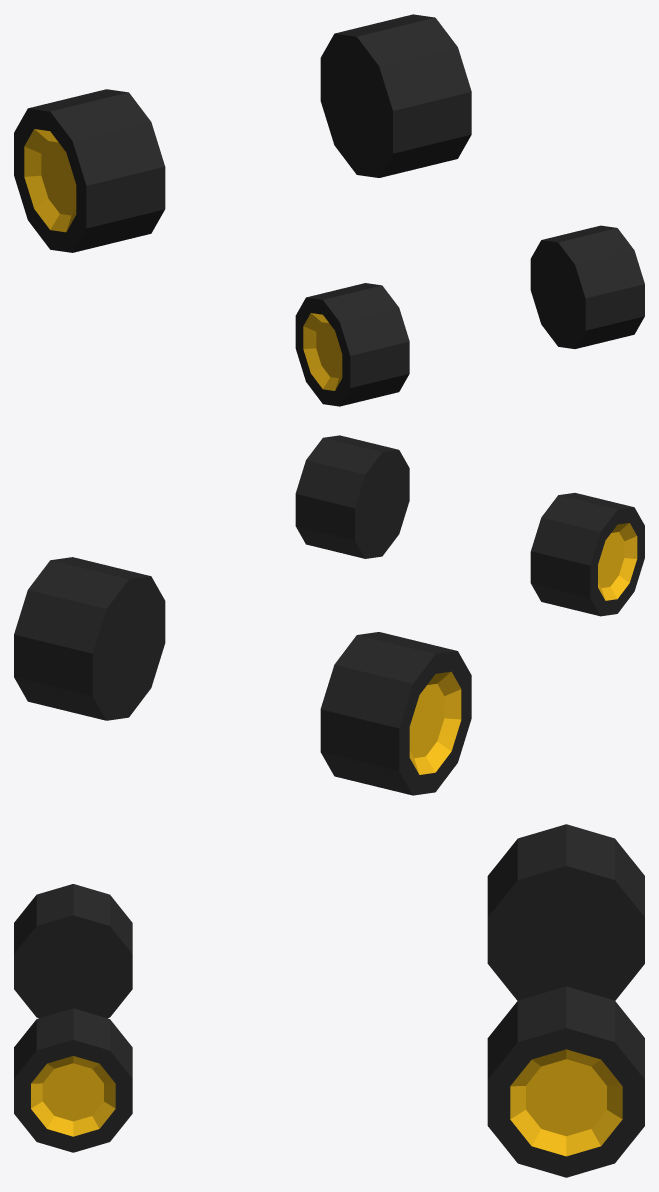
File: Wheels1.fbx
3 renders of one model, top to bottom at view 1: azimuth 30°, elevation 25°; view 2: azimuth 150°, elevation 25°; view 3: azimuth 270°, elevation 25°, orthographic. The views are drawn at different scales.
Parts seen in each view (by area): view 1: Wheels1; view 2: Wheels1; view 3: Wheels1.
Boxes of the visible parts, x1,y1,x2,y2 form: Wheels1: [14, 14, 644, 406]; Wheels1: [14, 435, 644, 795]; Wheels1: [14, 824, 644, 1177].
Bounding box in the file's own units: 835 × 286 × 1092.
